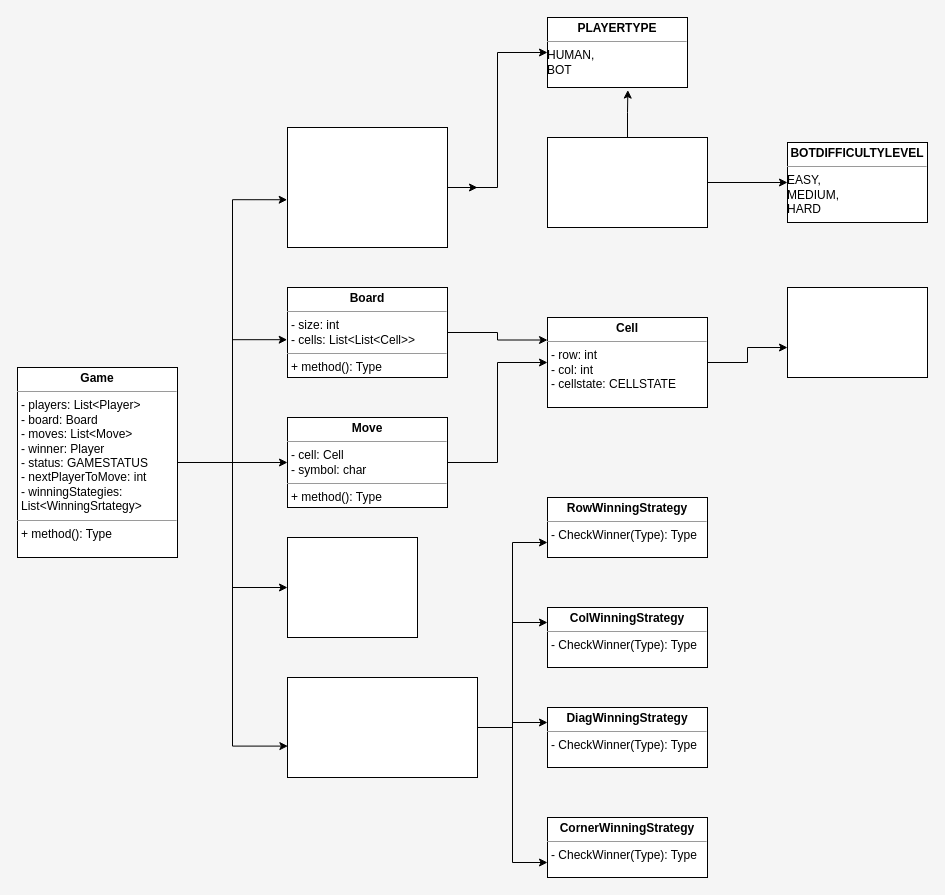
Image size: 945x895. Some labels were removed from this diagram. Here are the shapes that lost their labels. From the top down, the box of each, then its label:
(286, 126, 448, 248): Player - name: String - playerType: PLAYERTYPE - symbol: char + method(): Type
(546, 136, 708, 228): Bot - botDifficultyLevel: BOTDIFFICULTYLEVEL + method(): Type
(786, 286, 928, 378): CELLSTATE EMPTY, FILLED, BLOCKED
(286, 536, 418, 638): GAMESTATUS INPROGRESS, DRAW, SUCEED, FAILED
(286, 676, 478, 778): <<Interface>> WinningStrategy - CheckWinner(Type): Type
